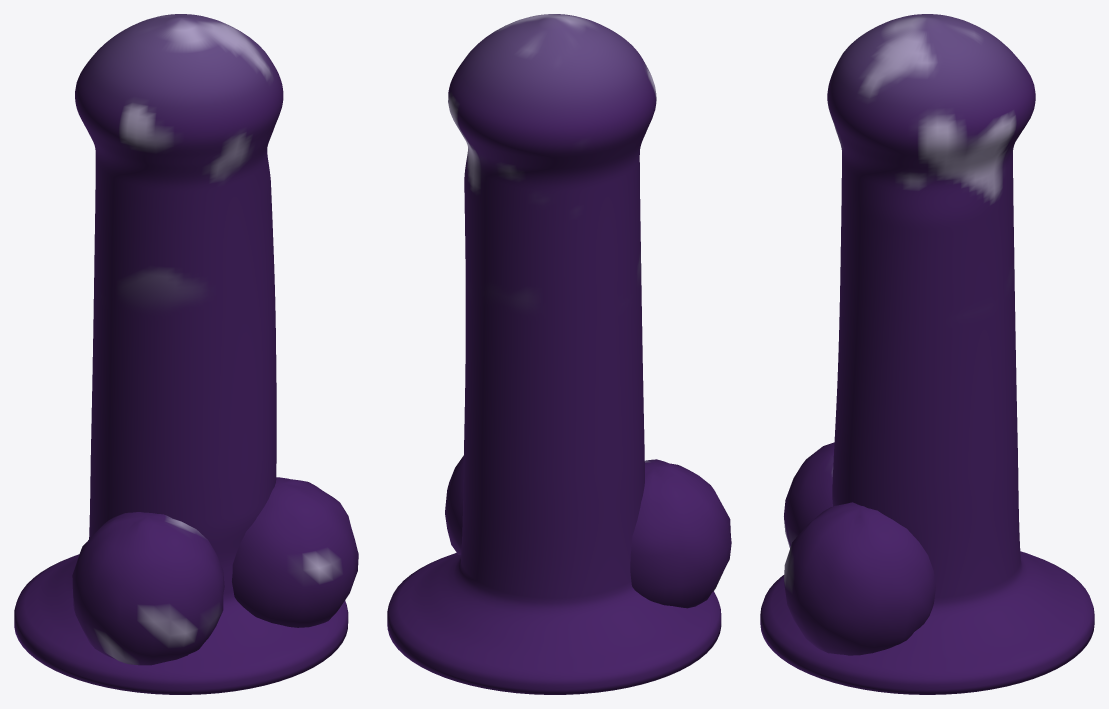
Rendered from knight_purple.glb.
3 renders of one model, left to right at view 1: azimuth 30°, elevation 25°; view 2: azimuth 150°, elevation 25°; view 3: azimuth 270°, elevation 25°, orthographic.
Visible parts, largest first — view 1: knight; view 2: knight; view 3: knight.
Part boxes in pixels (x1,y1,x2,y2): knight: (14, 14, 358, 694); knight: (387, 14, 731, 694); knight: (760, 14, 1094, 694).
Bounding box in the file's own units: 0.5 × 1 × 0.5.
